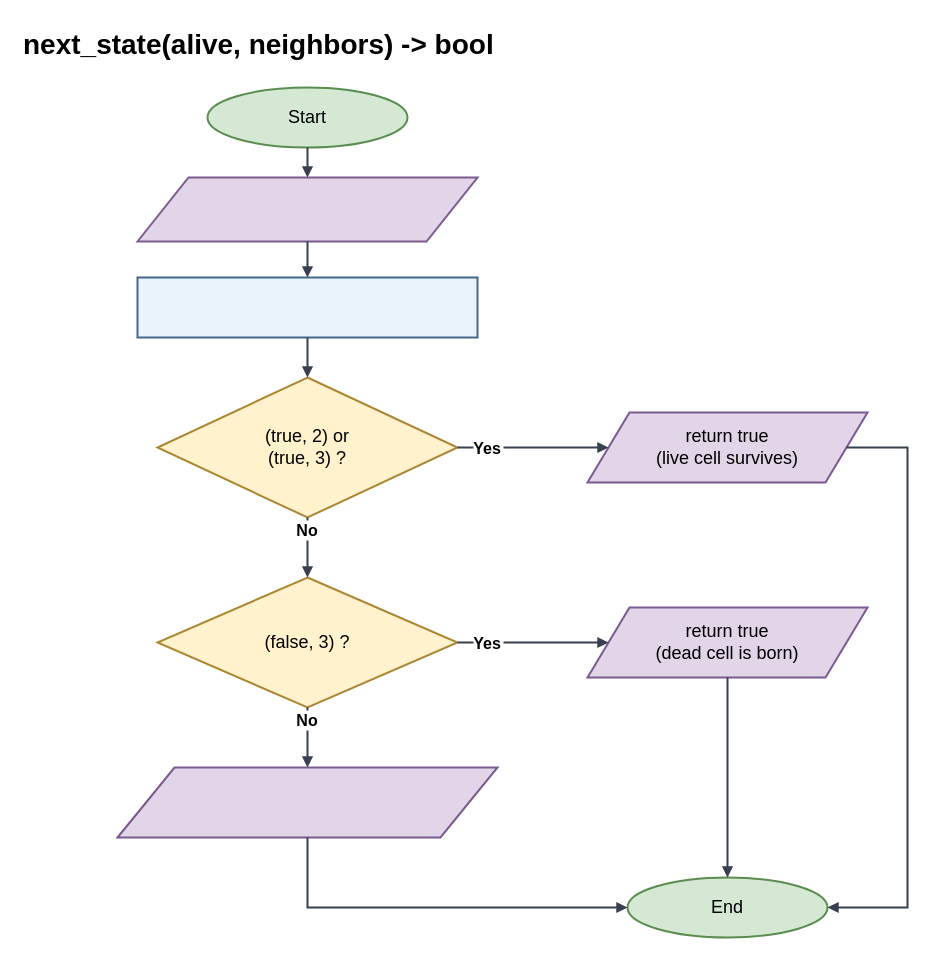
The diagram is 933 pixels wide and 955 high, and some of its shapes have lost their labels. The shapes that lost their labels are listed below. From the top down, each one's centre as x and y in pixels, then its label:
the point at 307,209: Input: alive, neighbors
the point at 307,307: match (alive, neighbors)
the point at 307,802: _ (every other case): return false (cell is dead)
